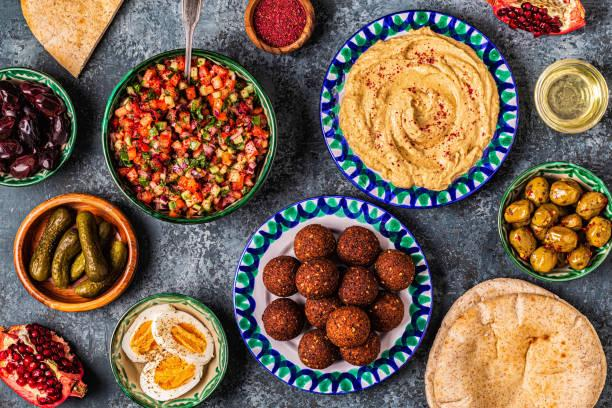Braised Crucian Carp: (232, 193, 428, 397), (321, 9, 515, 212), (101, 49, 269, 224), (496, 162, 611, 281)
